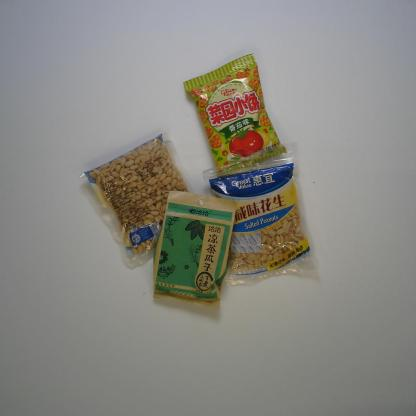Dried Food: (152, 189, 236, 312)
Dried Fruit: (201, 140, 320, 288), (78, 129, 201, 271)
Puffed Food: (182, 50, 288, 179)
